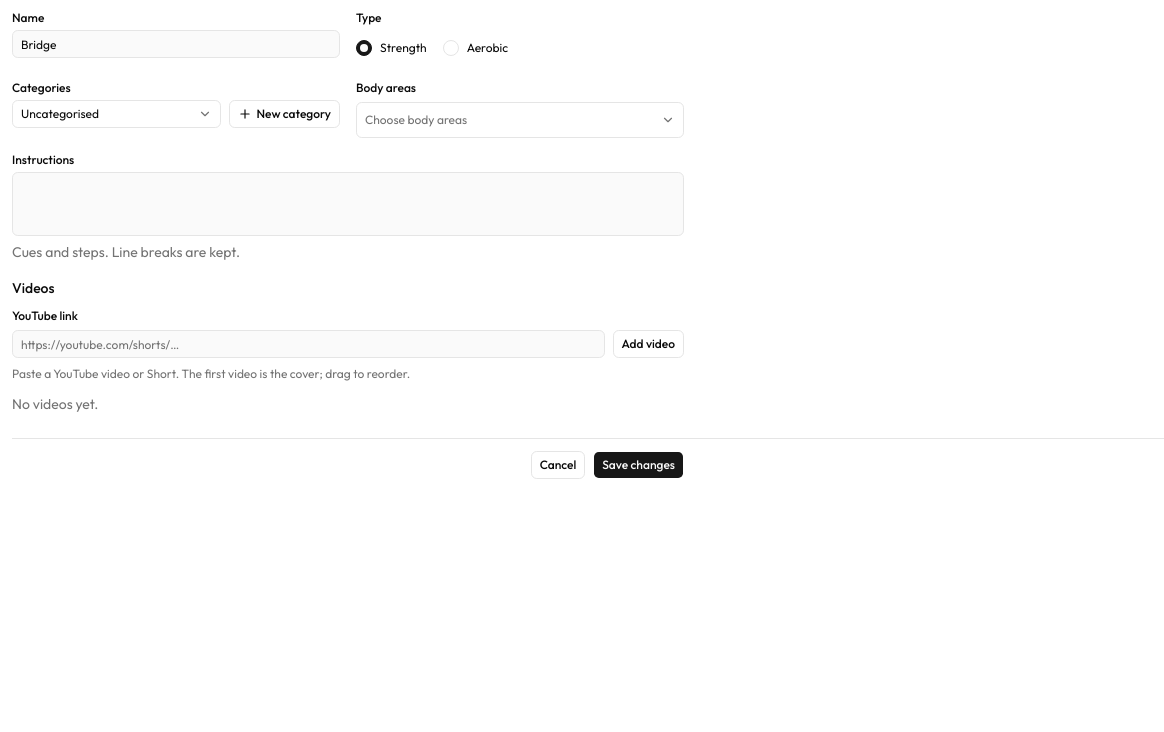
Test: ExerciseForm › shows the not-found alert
Click the button "Save changes" at (639, 465), box [593,451,684,479]
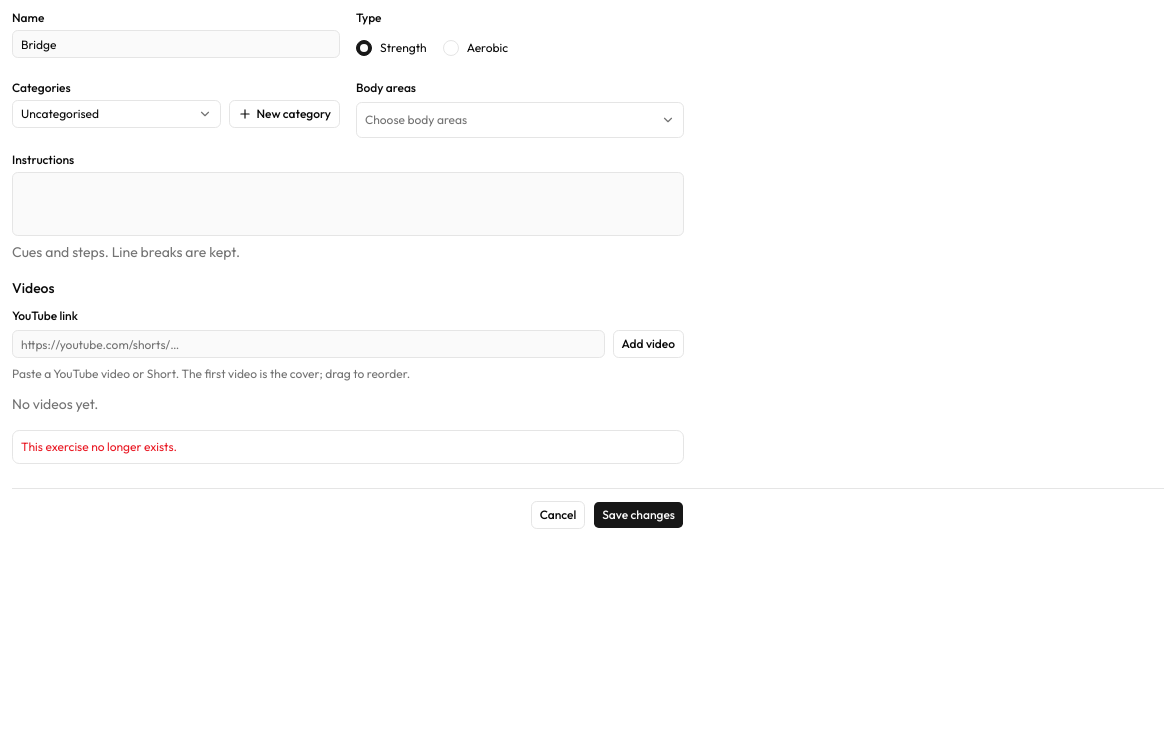
Expected: the message reads "This exercise no longer exists.", [21,439,177,454]
